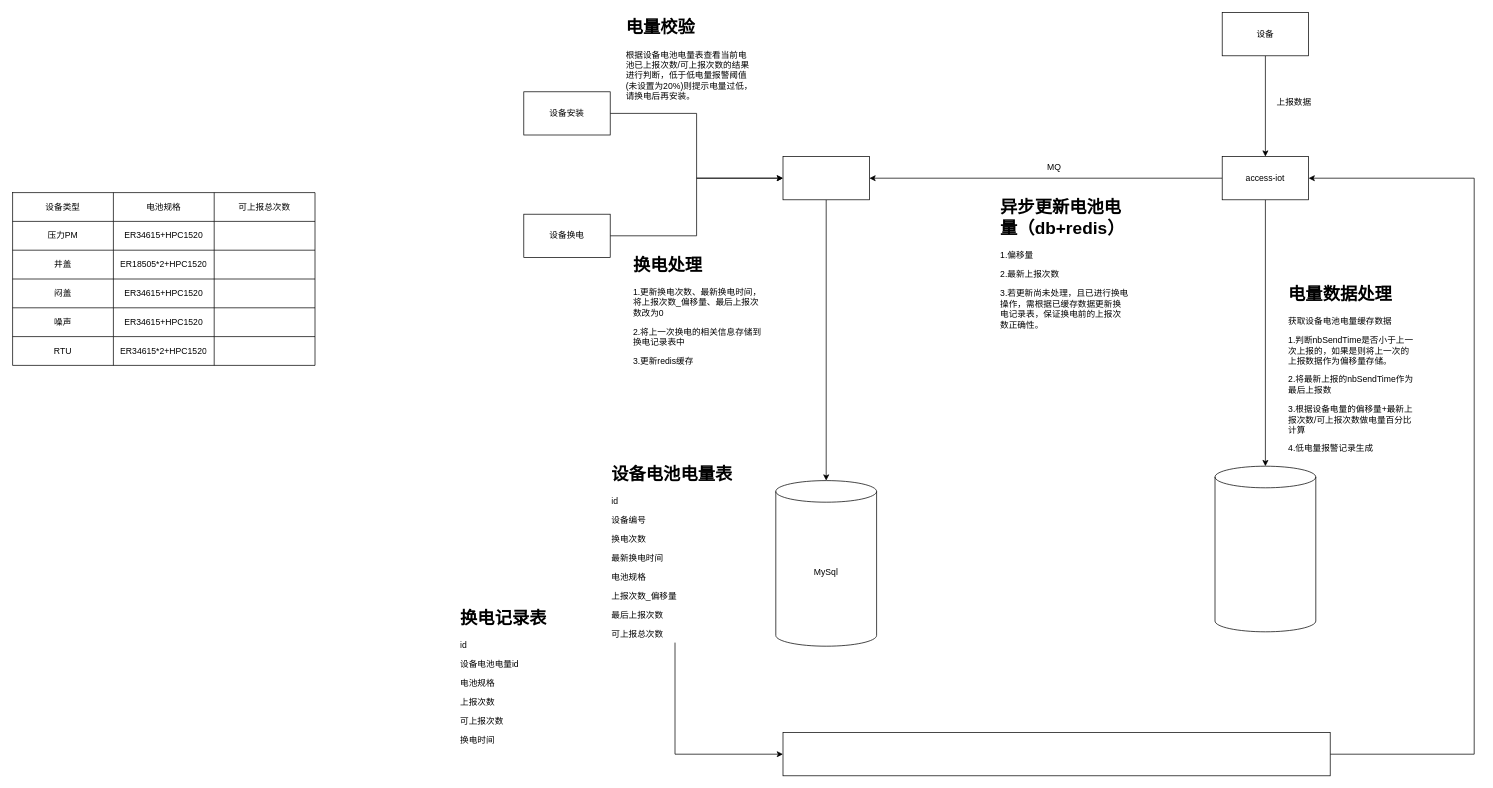
Image size: 1493x788. Some labels were removed from this diagram. The box of each missing label's shape, as (x1, y1, x2, y2) in pixels:
iot-device: (782, 156, 869, 200)
redis缓存: (782, 732, 1330, 776)
TDengine: (1214, 465, 1316, 632)
